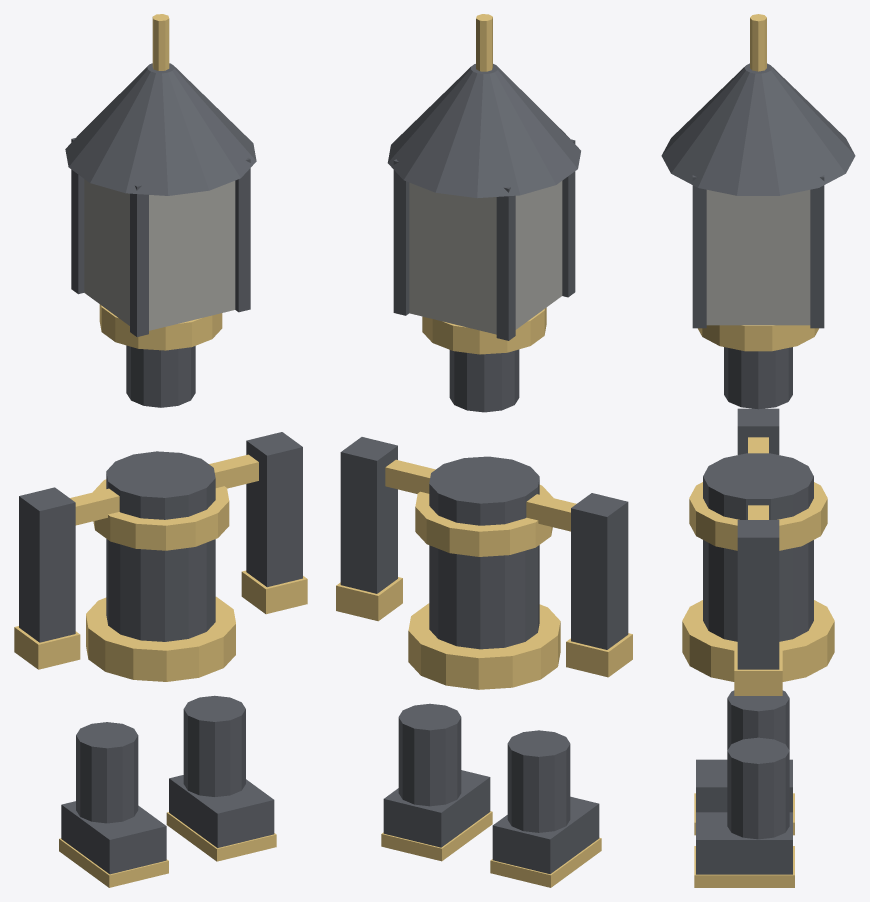
File: sentient-street-lamp.glb
3 views of the same model, side by side, from view 1: azimuth 30°, elevation 25°; view 2: azimuth 150°, elevation 25°; view 3: azimuth 270°, elevation 25° (orthographic).
Visible parts, largest first — view 1: LanternGlass, LanternRoof, FlutedColumn, ScrollArm_L, ScrollArm_R, ColumnTrimLower, PostLeg_L, PostLeg_R, BaseFoot_R, BaseFoot_L, ColumnTrimUpper, PostNeck (+10 smaller); view 2: LanternGlass, LanternRoof, FlutedColumn, ScrollArm_L, ScrollArm_R, ColumnTrimLower, PostLeg_R, PostLeg_L, BaseFoot_L, BaseFoot_R, ColumnTrimUpper, PostNeck (+10 smaller); view 3: LanternRoof, LanternGlass, FlutedColumn, ScrollArm_R, PostLeg_R, ColumnTrimLower, BaseFoot_R, PostNeck, ColumnTrimUpper, PostLeg_L, LanternCollar, FrameBar2 (+7 smaller).
Part boxes in pixels (<box>): LanternGlass: <box>84,179,235,330</box>; LanternRoof: <box>65,63,256,195</box>; FlutedColumn: <box>106,451,215,641</box>; ScrollArm_L: <box>19,487,75,642</box>; ScrollArm_R: <box>246,432,302,587</box>; ColumnTrimLower: <box>86,596,235,681</box>; PostLeg_L: <box>76,722,138,823</box>; PostLeg_R: <box>183,695,245,796</box>; BaseFoot_R: <box>169,775,274,847</box>; BaseFoot_L: <box>61,801,166,874</box>; ColumnTrimUpper: <box>92,479,229,550</box>; PostNeck: <box>126,345,195,407</box>; LanternGlass: <box>409,181,562,334</box>; LanternRoof: <box>387,64,580,198</box>; FlutedColumn: <box>429,456,539,649</box>; ScrollArm_L: <box>571,493,628,649</box>; ScrollArm_R: <box>340,437,397,593</box>; ColumnTrimLower: <box>408,603,560,689</box>; PostLeg_R: <box>398,703,461,806</box>; PostLeg_L: <box>507,730,570,832</box>; BaseFoot_L: <box>492,796,599,873</box>; BaseFoot_R: <box>383,770,490,847</box>; ColumnTrimUpper: <box>415,485,553,556</box>; PostNeck: <box>449,349,519,412</box>; LanternRoof: <box>661,63,855,195</box>; LanternGlass: <box>706,190,810,325</box>; FlutedColumn: <box>703,453,813,641</box>; ScrollArm_R: <box>737,520,779,669</box>; PostLeg_R: <box>727,737,789,839</box>; ColumnTrimLower: <box>682,600,834,681</box>; BaseFoot_R: <box>696,812,792,874</box>; PostNeck: <box>724,347,792,409</box>; ColumnTrimUpper: <box>689,482,827,550</box>; PostLeg_L: <box>727,690,789,750</box>; LanternCollar: <box>698,325,818,351</box>; FrameBar2: <box>692,175,706,328</box>.
Size of the model in its own units: 0.9 by 2.64 by 0.56.
